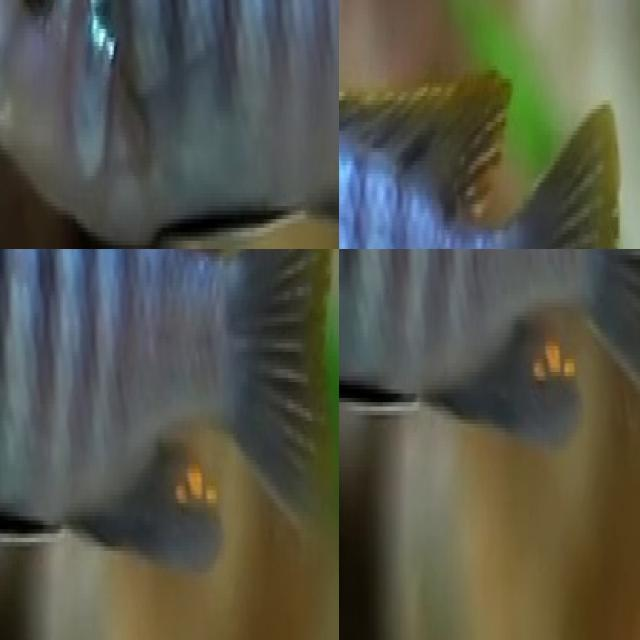fish: (0, 249, 339, 594), (0, 0, 339, 249), (339, 249, 640, 480)
